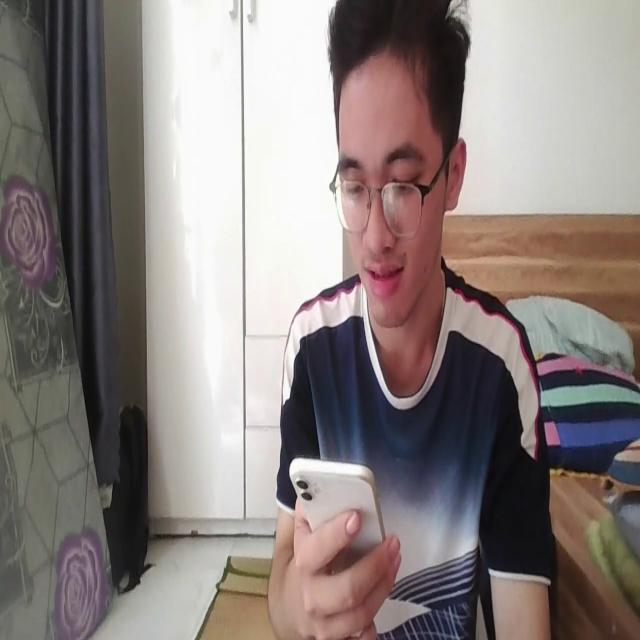phone: (289, 447, 392, 563)
student: (274, 0, 554, 640)
